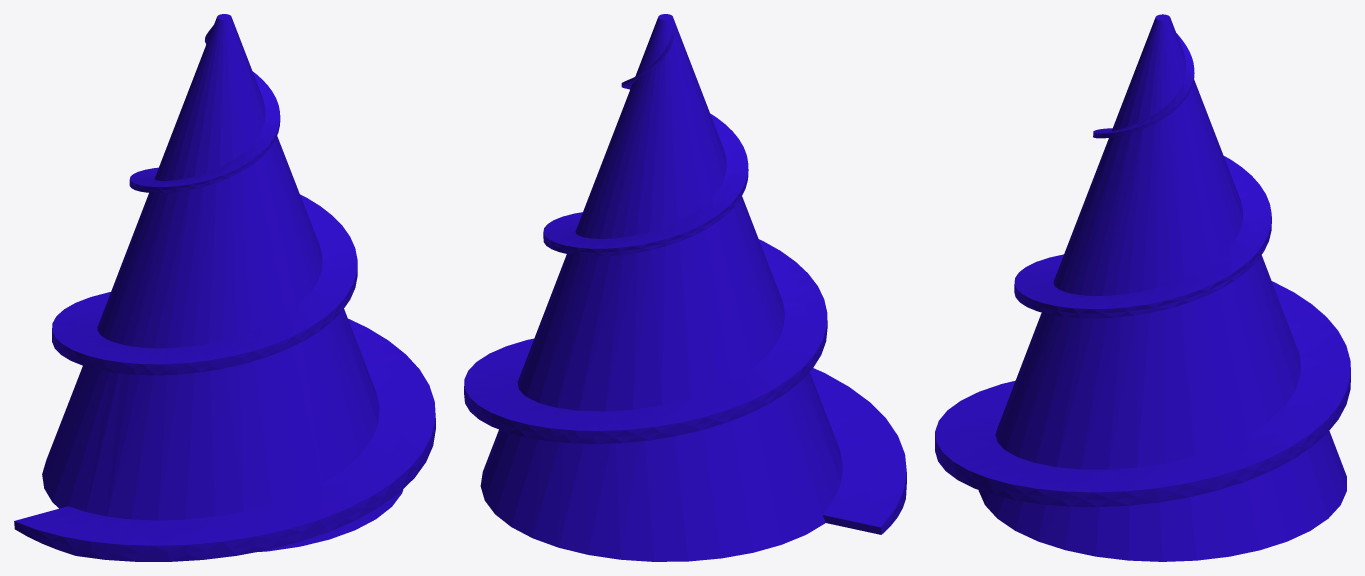
File: BeeStinger.obj
The picture shows the model from 3 angles, left to right: view 1: azimuth 30°, elevation 25°; view 2: azimuth 150°, elevation 25°; view 3: azimuth 270°, elevation 25°; orthographic projection.
Parts seen in each view (by area): view 1: BeeStinger; view 2: BeeStinger; view 3: BeeStinger.
Part boxes in pixels (x1,y1,x2,y2): BeeStinger: [14, 14, 435, 561]; BeeStinger: [464, 14, 906, 561]; BeeStinger: [935, 14, 1350, 561].
Size of the model in its own units: 1.14 by 1.29 by 1.04.
